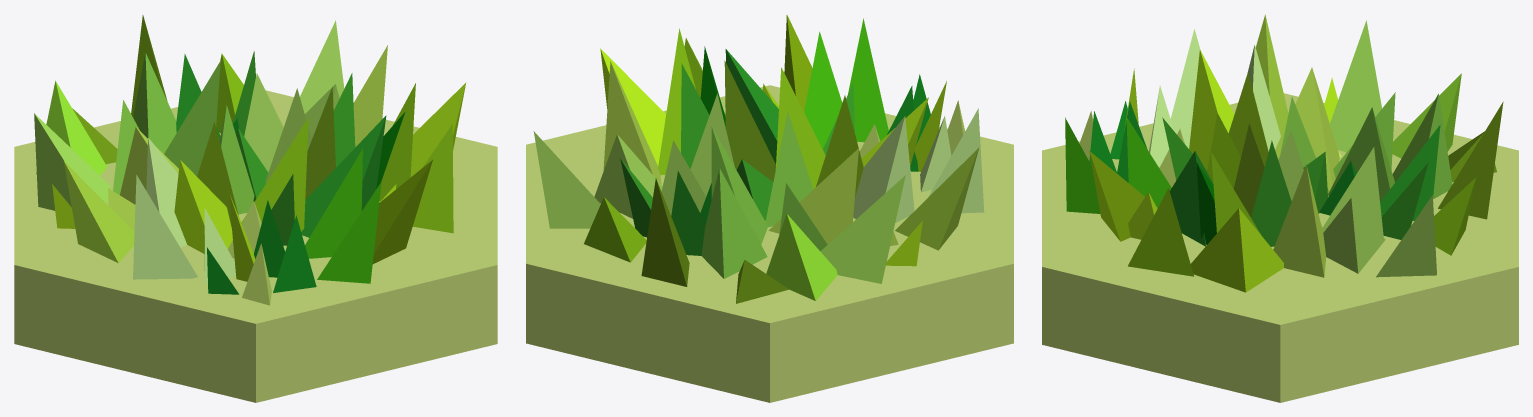
3 views of the same model, side by side, from view 1: azimuth 30°, elevation 25°; view 2: azimuth 150°, elevation 25°; view 3: azimuth 270°, elevation 25° (orthographic). The views are drawn at different scales.
Visible parts, largest first — view 1: 物件_65, 物件_62, 物件_51, 物件_54, 物件_14, 物件_43, 物件_5, 物件_34, 物件_7, 物件_36, 物件_31, 物件_22 (+33 smaller); view 2: 物件_65, 物件_54, 物件_60, 物件_41, 物件_46, 物件_56, 物件_51, 物件_15, 物件_61, 物件_24, 物件_5, 物件_57 (+29 smaller); view 3: 物件_65, 物件_3, 物件_57, 物件_54, 物件_36, 物件_39, 物件_14, 物件_61, 物件_56, 物件_34, 物件_15, 物件_45 (+30 smaller).
Boxes of the visible parts, x1,y1,x2,y2 form: 物件_65: (14, 90, 497, 402); 物件_62: (133, 175, 197, 279); 物件_51: (64, 161, 134, 263); 物件_54: (34, 113, 110, 210); 物件_14: (174, 160, 241, 253); 物件_43: (301, 115, 386, 237); 物件_5: (317, 181, 381, 283); 物件_34: (372, 160, 432, 263); 物件_7: (305, 149, 362, 258); 物件_36: (413, 124, 453, 233); 物件_31: (164, 61, 220, 176); 物件_22: (241, 117, 308, 231); 物件_65: (526, 85, 1013, 402); 物件_54: (820, 175, 905, 283); 物件_60: (701, 168, 767, 278); 物件_41: (766, 214, 837, 300); 物件_46: (853, 116, 914, 222); 物件_56: (533, 131, 600, 228); 物件_51: (895, 147, 979, 250); 物件_15: (768, 148, 858, 244); 物件_61: (641, 178, 689, 286); 物件_24: (724, 60, 775, 181); 物件_5: (848, 18, 888, 142); 物件_57: (603, 61, 661, 183); 物件_65: (1042, 93, 1518, 402); 物件_3: (1190, 208, 1283, 292); 物件_57: (1273, 164, 1326, 277); 物件_54: (1330, 20, 1392, 165); 物件_36: (1128, 188, 1193, 276); 物件_39: (1323, 197, 1385, 273); 物件_14: (1189, 50, 1234, 170); 物件_61: (1438, 101, 1503, 219); 物件_56: (1376, 195, 1436, 277); 物件_34: (1089, 151, 1157, 241); 物件_15: (1275, 67, 1339, 191); 物件_45: (1251, 140, 1291, 246).
Size of the model in its own units: 128 by 111 by 50.
